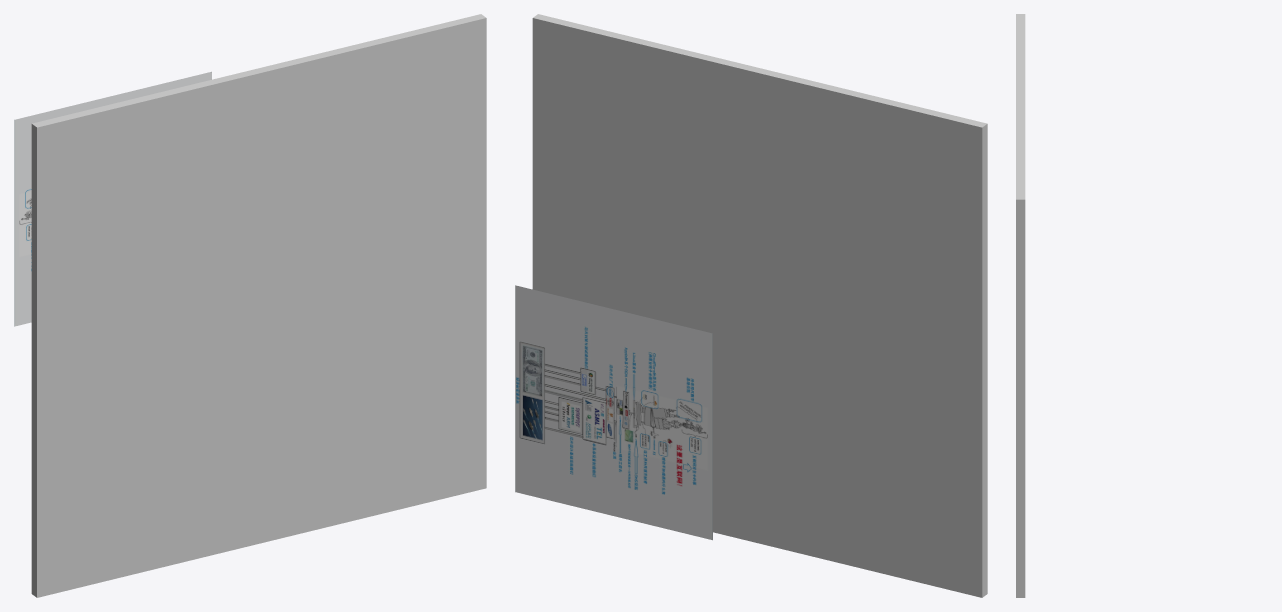
Rendered from imagetest.glb.
The picture shows the model from 3 angles, left to right: view 1: azimuth 30°, elevation 25°; view 2: azimuth 150°, elevation 25°; view 3: azimuth 270°, elevation 25°; orthographic projection. The views are drawn at different scales.
Parts seen in each view (by area): view 1: 立方体, plane; view 2: 立方体, plane; view 3: 立方体.
Part boxes in pixels (box(x1,y1,x2,y2)): 立方体: box(31, 14, 486, 597); plane: box(14, 71, 211, 326); 立方体: box(532, 14, 987, 597); plane: box(515, 285, 712, 540); 立方体: box(1016, 14, 1025, 597).
Bounding box in the file's own units: 4.55 × 4.55 × 2.61.
Materials: 1 (1 with a texture image).
